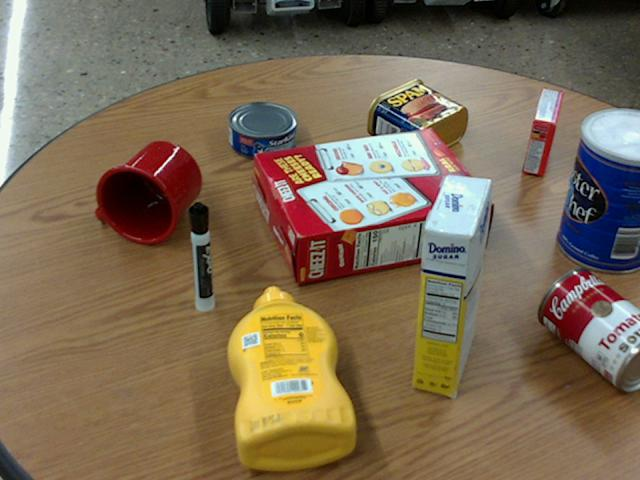cracker_box: (253, 128, 490, 284)
gelatin_box: (523, 88, 562, 174)
large_marker: (188, 201, 212, 310)
master_chef_can: (557, 108, 639, 272)
mug: (95, 140, 200, 243)
mustard_bottle: (227, 286, 355, 469)
potted_meat_can: (367, 78, 467, 156)
sugar_box: (412, 173, 491, 395)
tomato_soup_can: (539, 266, 639, 387)
tuna_fish_can: (228, 101, 297, 156)
